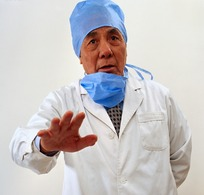face: (79, 18, 126, 81)
